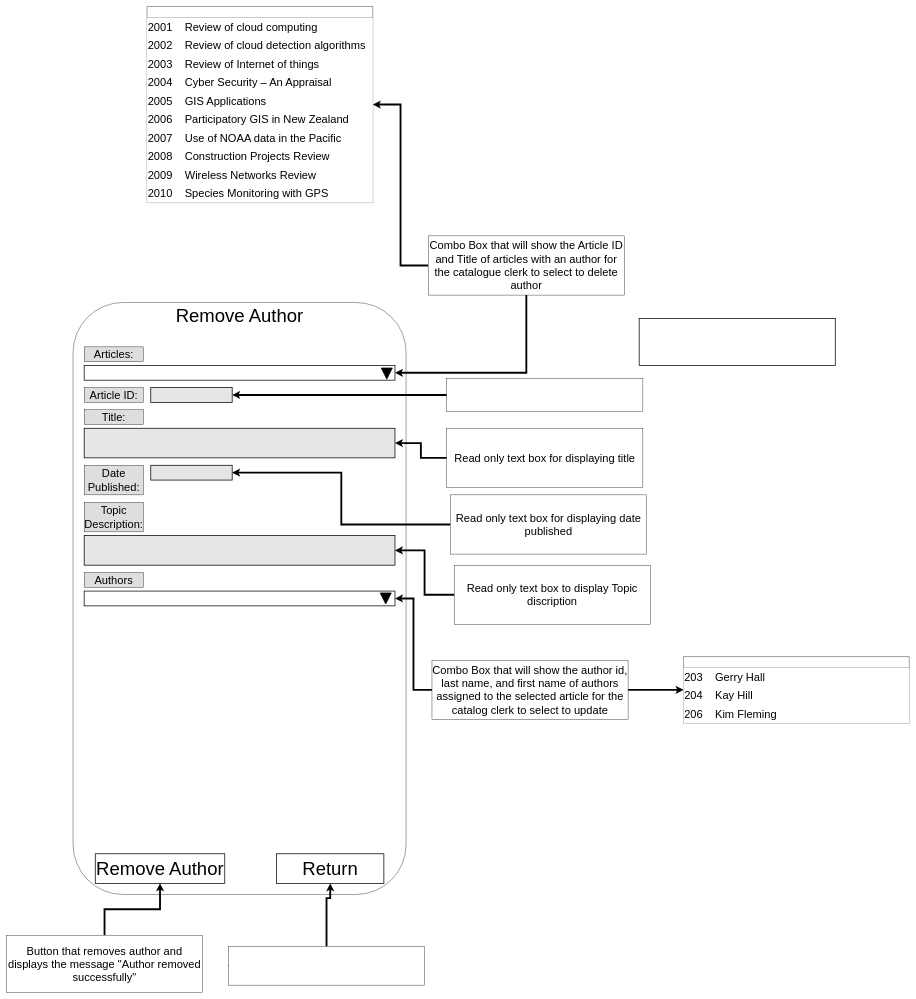
Image size: 916x999. Some labels were removed from this diagram. The centre of each missing label's shape, as x and y in pixels:
Button that returns the user to the menu: (x=326, y=965)
Read only Text Box for displaying Article ID: (x=544, y=395)
Text in black will be labels, captions, or example of format: (x=737, y=342)
